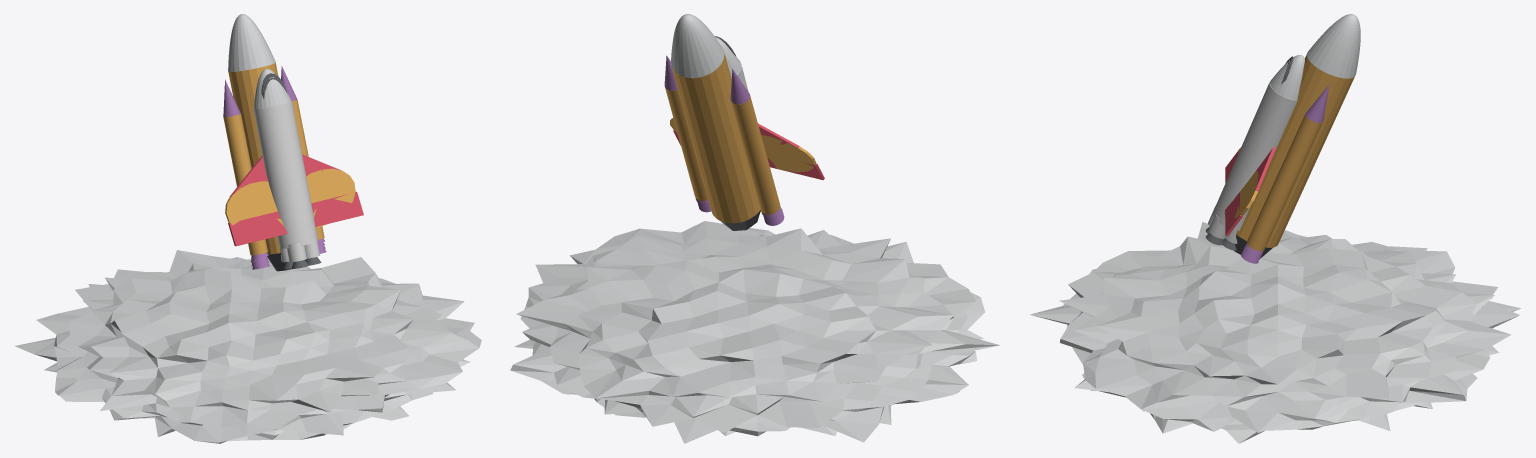
Rendered from asset.glb.
3 renders of one model, left to right at view 1: azimuth 30°, elevation 25°; view 2: azimuth 150°, elevation 25°; view 3: azimuth 270°, elevation 25°, orthographic. The views are drawn at different scales.
Visible parts, largest first — view 1: Mesh_Mesh_head_geo.001_lambert2SG.001; view 2: Mesh_Mesh_head_geo.001_lambert2SG.001; view 3: Mesh_Mesh_head_geo.001_lambert2SG.001.
Part boxes in pixels (left/top/right/bottom): Mesh_Mesh_head_geo.001_lambert2SG.001: left=14, top=14, right=481, bottom=443; Mesh_Mesh_head_geo.001_lambert2SG.001: left=510, top=14, right=999, bottom=443; Mesh_Mesh_head_geo.001_lambert2SG.001: left=1030, top=14, right=1520, bottom=443.
Bounding box in the file's own units: 202 × 162 × 200.
